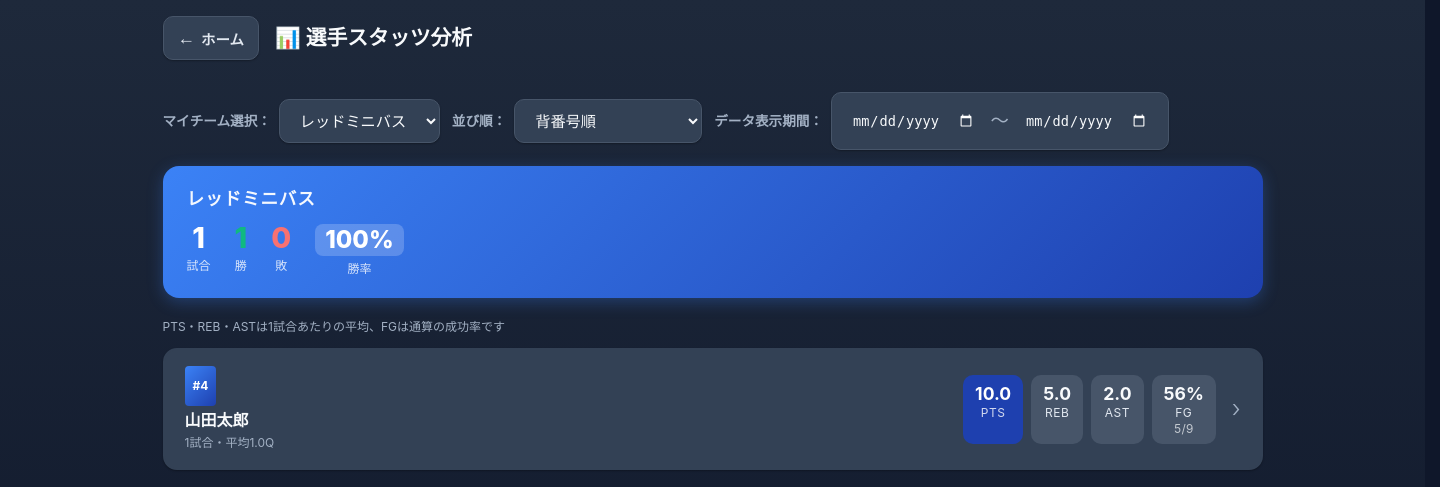
it: 試合のない期間で絞り込んだとき › 解除すると選手が戻ってくる
Type "2027-01-01" into the date field named "データ表示期間の開始日". click: (913, 121)
box: [844,99,983,143]
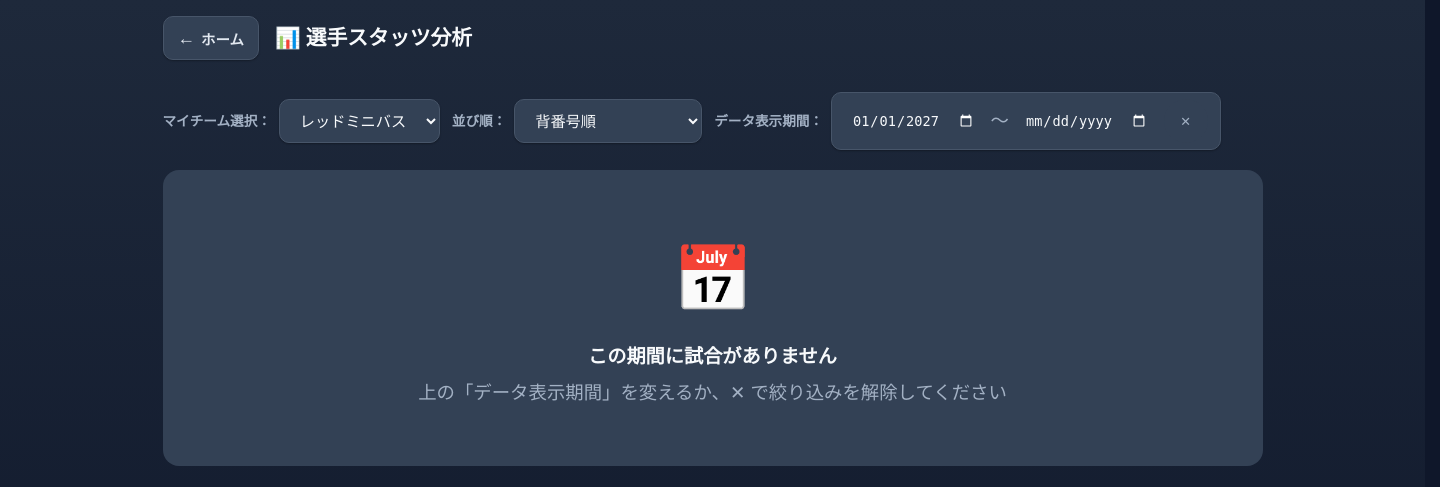
Check: the button "山田太郎" is gone
Click the button named "期間の絞り込みを解除". click: (1186, 121)
box: [1164,99,1208,143]
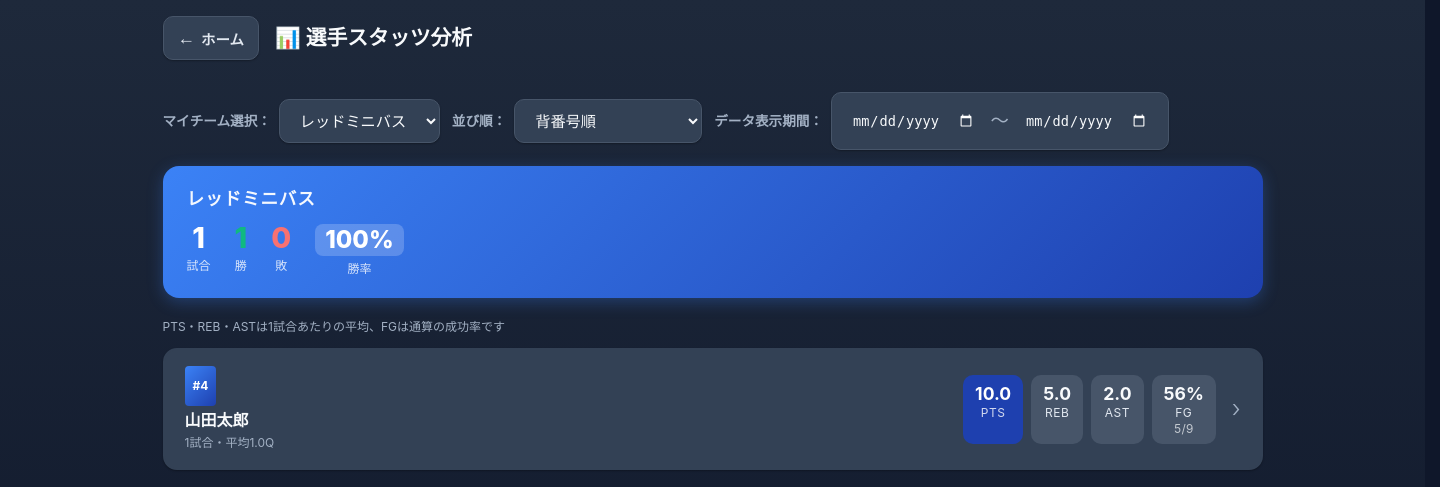
Check: the text "山田太郎" is shown, box [184,410,248,430]
